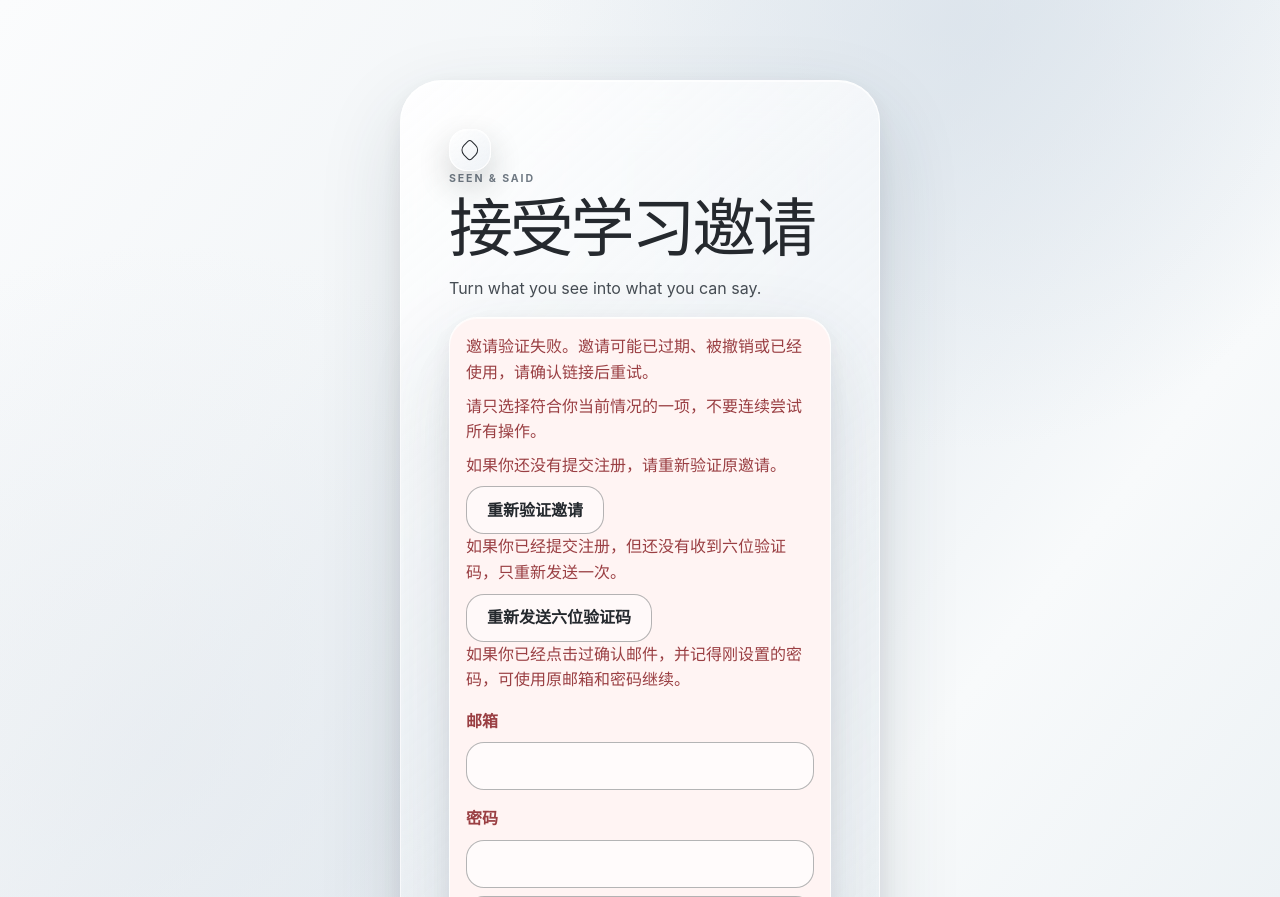
Test case: Web invitation and authentication › resends from a bound-claim error with the original memory-held invitation
Click the button "重新发送六位验证码". click: (559, 618)
box: x1=466 y1=594 x2=652 y2=642
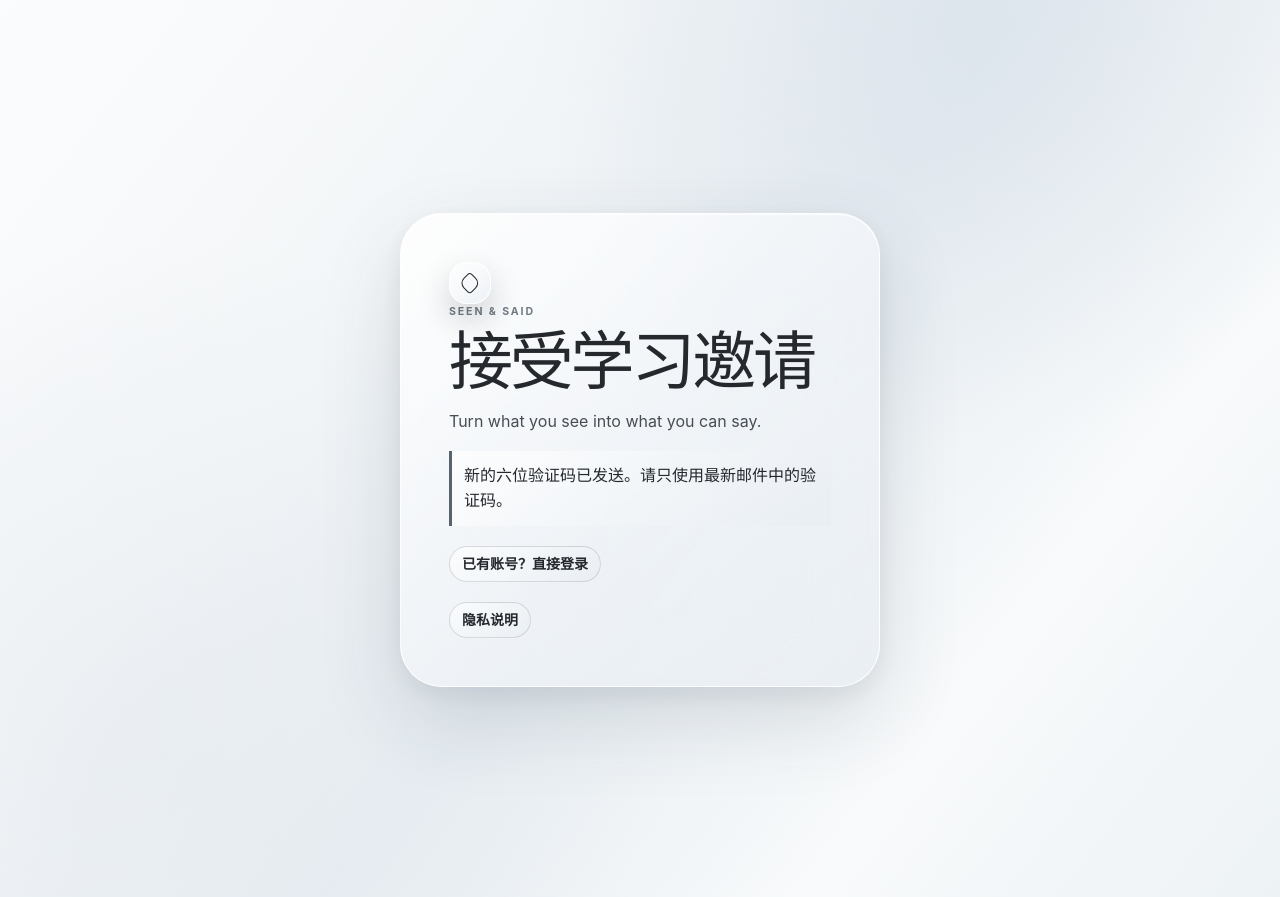
Now the message "新的六位验证码已发送。请只使用最新邮件中的验证码。" is shown, box x1=449 y1=451 x2=831 y2=526
